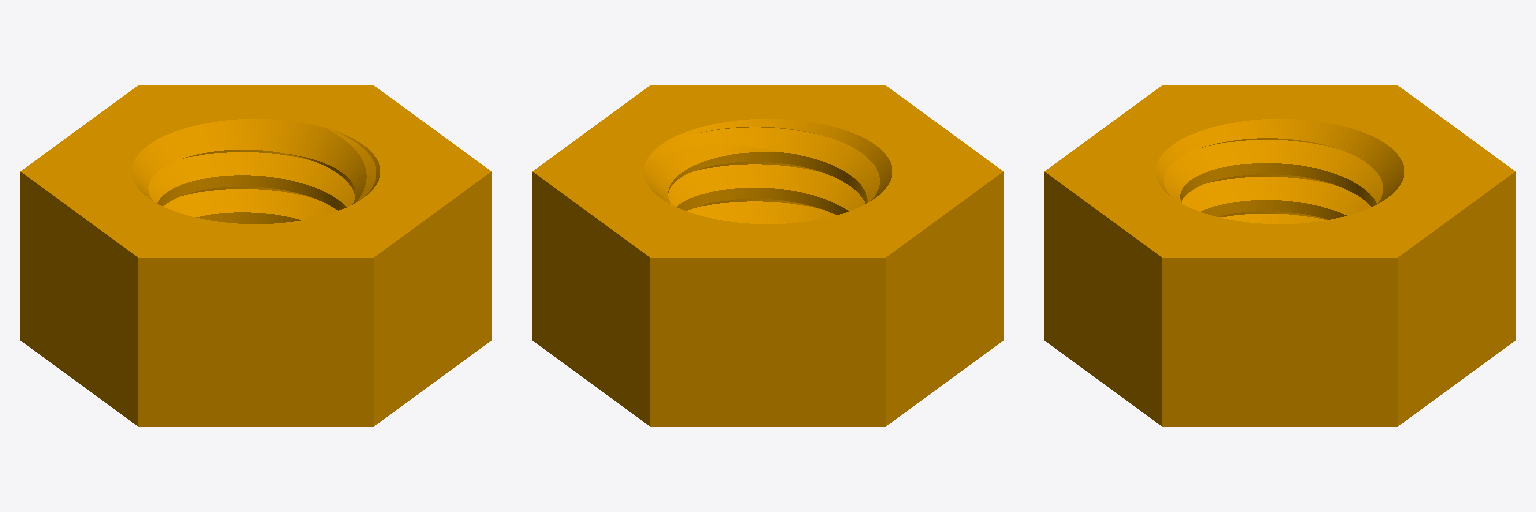
robot.urdf — nut_m4_loose_CM:
<?xml version="1.0"?>
<robot name="nut_m4_loose_CM">
  <link name="nut_m4_loose_CM">
    <visual>
      <origin xyz="0.0 0.0 0.0"/>
      <geometry>
        <mesh filename="nut_m4_loose.obj" scale="100 100 100"/>
      </geometry>
    </visual>
    <collision>
      <origin xyz="0.0 0.0 0.0"/>
      <geometry>
        <mesh filename="nut_m4_loose.obj" scale="100 100 100"/>
      </geometry>
      <sdf resolution="256"/>
    </collision>
    <inertial>
      <mass value="0.0008"/>
      <origin xyz="0 0 0.56" rpy="0 0 0"/>
      <inertia ixx="4.1e-5" ixy="0.0" ixz="0.0" iyy="4.1e-5" iyz="0.0" izz="6.86e-5"/>
    </inertial>
  </link>
</robot>

--- Render facts (derived) ---
3 views of the same robot in one strip: view 1: azimuth 30°, elevation 25°; view 2: azimuth 150°, elevation 25°; view 3: azimuth 270°, elevation 25° (orthographic).
Robot: nut_m4_loose_CM — 1 links, 0 joints (none); root link nut_m4_loose_CM; default pose: every joint at zero.
Visible links, largest first — view 1: nut_m4_loose_CM; view 2: nut_m4_loose_CM; view 3: nut_m4_loose_CM.
Link boxes in pixels (<box>): nut_m4_loose_CM: <box>20,85,491,426</box>; nut_m4_loose_CM: <box>532,85,1003,426</box>; nut_m4_loose_CM: <box>1044,85,1515,426</box>.
Size in the robot's own frame: 0.7 by 0.8083 by 0.32 metres.
1 mesh visuals loaded from 1 distinct referenced files (1 OBJ).